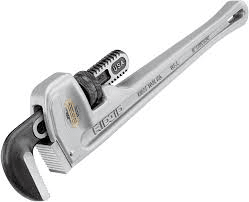wrench: (4, 1, 249, 202)
